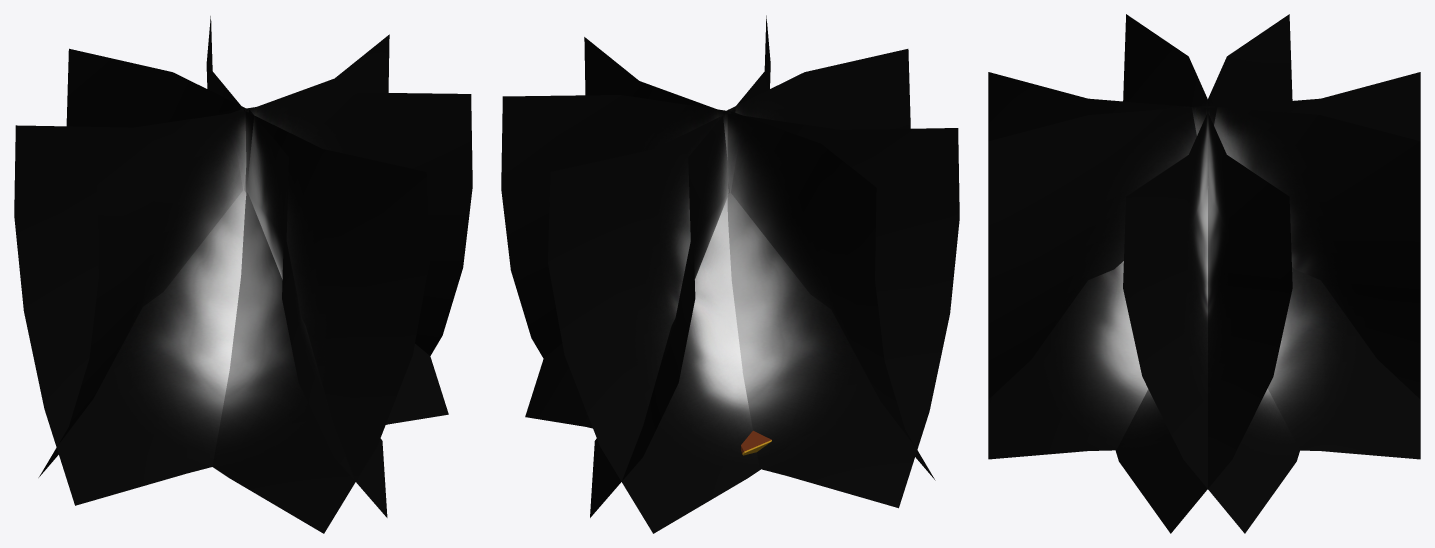
Rendered from Fire01.fbx.
3 renders of one model, left to right at view 1: azimuth 30°, elevation 25°; view 2: azimuth 150°, elevation 25°; view 3: azimuth 270°, elevation 25°, orthographic.
Parts seen in each view (by area): view 1: Fire01; view 2: Fire01; view 3: Fire01.
Part boxes in pixels (left/top/right/bottom): Fire01: left=14, top=16, right=472, bottom=533; Fire01: left=501, top=15, right=959, bottom=533; Fire01: left=988, top=14, right=1420, bottom=533.
Size of the model in its own units: 215 by 215 by 185.
